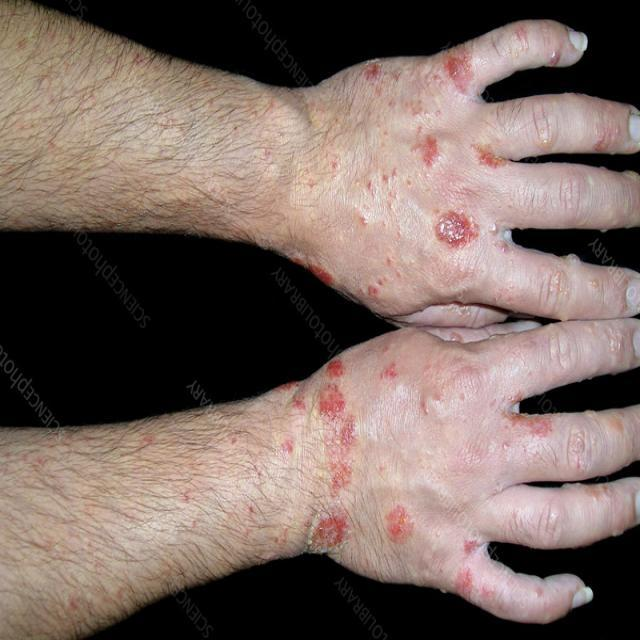Eczema: (285, 362, 553, 602), (298, 56, 509, 302)
